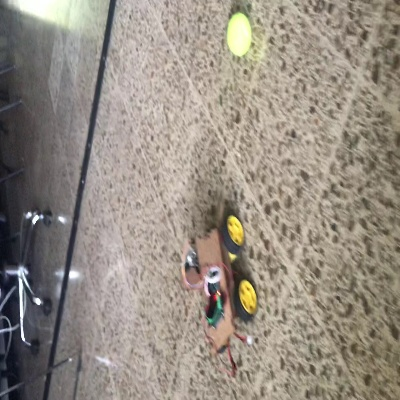Ball: (226, 13, 252, 57)
Robot: (179, 212, 258, 352)
